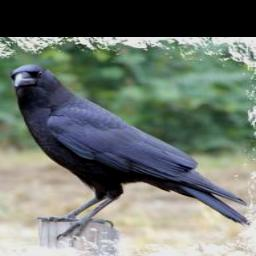Crow: (4, 63, 255, 243)
